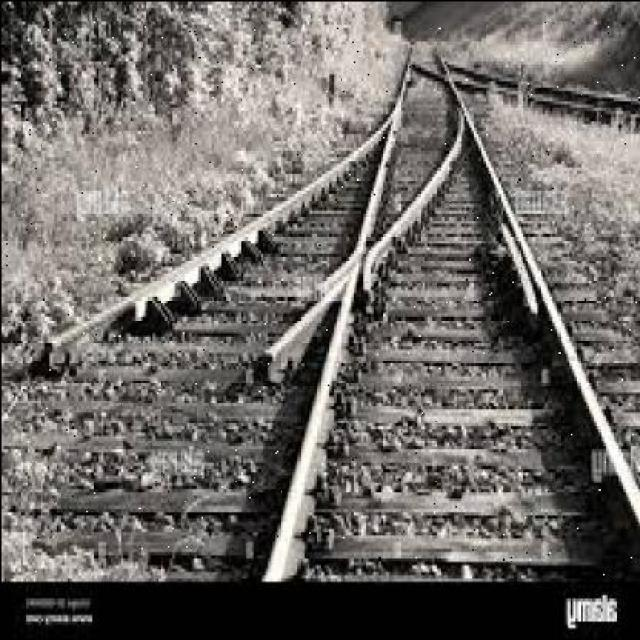rail: (5, 19, 638, 574)
